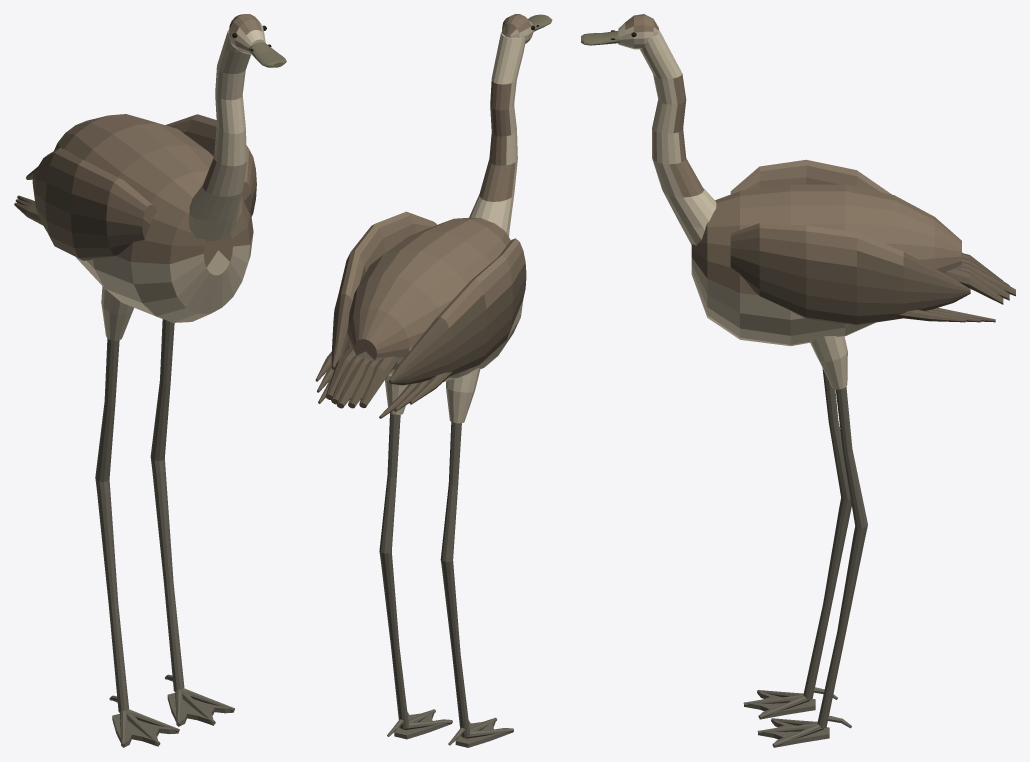
3 views of the same model, side by side, from view 1: azimuth 30°, elevation 25°; view 2: azimuth 150°, elevation 25°; view 3: azimuth 270°, elevation 25° (orthographic). The views are drawn at different scales.
Visible parts, largest first — view 1: feathered-trunk, left-folded-wing, long-gently-curved-neck, left-exposed-stilt-leg, right-exposed-stilt-leg, right-folded-wing, left-feathered-thigh, small-duck-like-head, right-web, left-web, broad-flattened-spatulate-bill; view 2: feathered-trunk, left-folded-wing, long-gently-curved-neck, right-folded-wing, right-exposed-stilt-leg, left-exposed-stilt-leg, left-feathered-thigh, tail-feather-1, small-duck-like-head, right-web, left-web, tail-feather-3 (+4 smaller); view 3: feathered-trunk, right-folded-wing, long-gently-curved-neck, right-exposed-stilt-leg, left-exposed-stilt-leg, left-folded-wing, right-feathered-thigh, small-duck-like-head, right-web, left-web.
Boxes of the visible parts, <box> form: feathered-trunk: <box>54,114,253,322</box>; left-folded-wing: <box>32,148,156,260</box>; long-gently-curved-neck: <box>188,29,250,241</box>; left-exposed-stilt-leg: <box>95,338,128,712</box>; right-exposed-stilt-leg: <box>150,319,184,691</box>; right-folded-wing: <box>165,114,256,216</box>; left-feathered-thigh: <box>101,286,133,340</box>; small-duck-like-head: <box>228,14,265,54</box>; right-web: <box>167,693,233,726</box>; left-web: <box>112,713,178,747</box>; broad-flattened-spatulate-bill: <box>248,42,286,67</box>; feathered-trunk: <box>347,217,523,381</box>; left-folded-wing: <box>389,238,526,385</box>; long-gently-curved-neck: <box>469,31,525,236</box>; right-folded-wing: <box>331,211,436,369</box>; right-exposed-stilt-leg: <box>379,413,408,729</box>; left-exposed-stilt-leg: <box>440,422,469,737</box>; left-feathered-thigh: <box>446,367,480,423</box>; tail-feather-1: <box>359,356,398,408</box>; small-duck-like-head: <box>502,14,533,43</box>; right-web: <box>394,710,451,739</box>; left-web: <box>455,719,512,747</box>; tail-feather-3: <box>336,358,369,408</box>; feathered-trunk: <box>691,184,961,346</box>; right-folded-wing: <box>730,223,970,325</box>; long-gently-curved-neck: <box>640,30,716,245</box>; right-exposed-stilt-leg: <box>817,387,867,728</box>; left-exposed-stilt-leg: <box>803,368,851,699</box>; left-folded-wing: <box>730,159,962,252</box>; right-feathered-thigh: <box>810,336,847,389</box>; small-duck-like-head: <box>618,14,658,49</box>; right-web: <box>758,718,829,747</box>; left-web: <box>744,690,815,719</box>.
Bounding box in the file's own units: 0.234 × 0.999 × 0.558.
